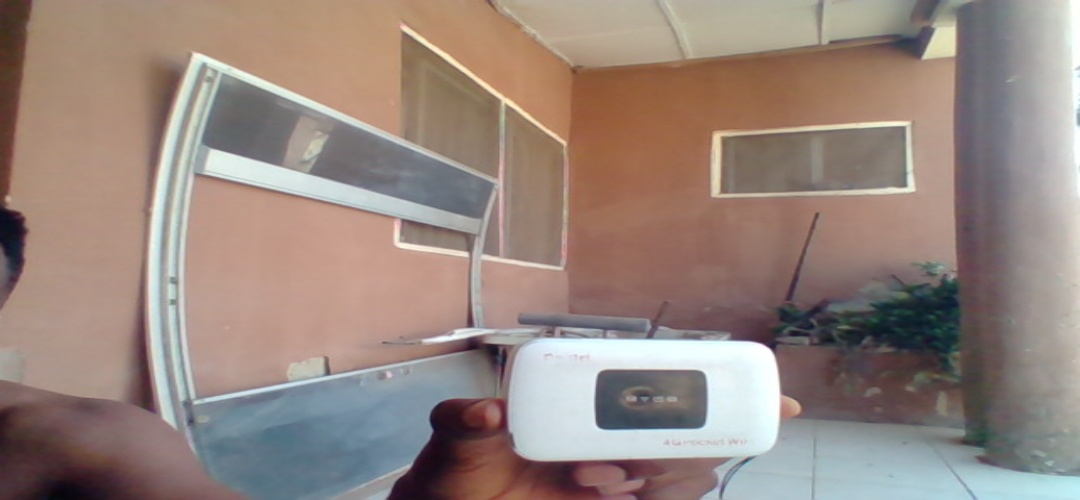mifi: (506, 335, 781, 460)
